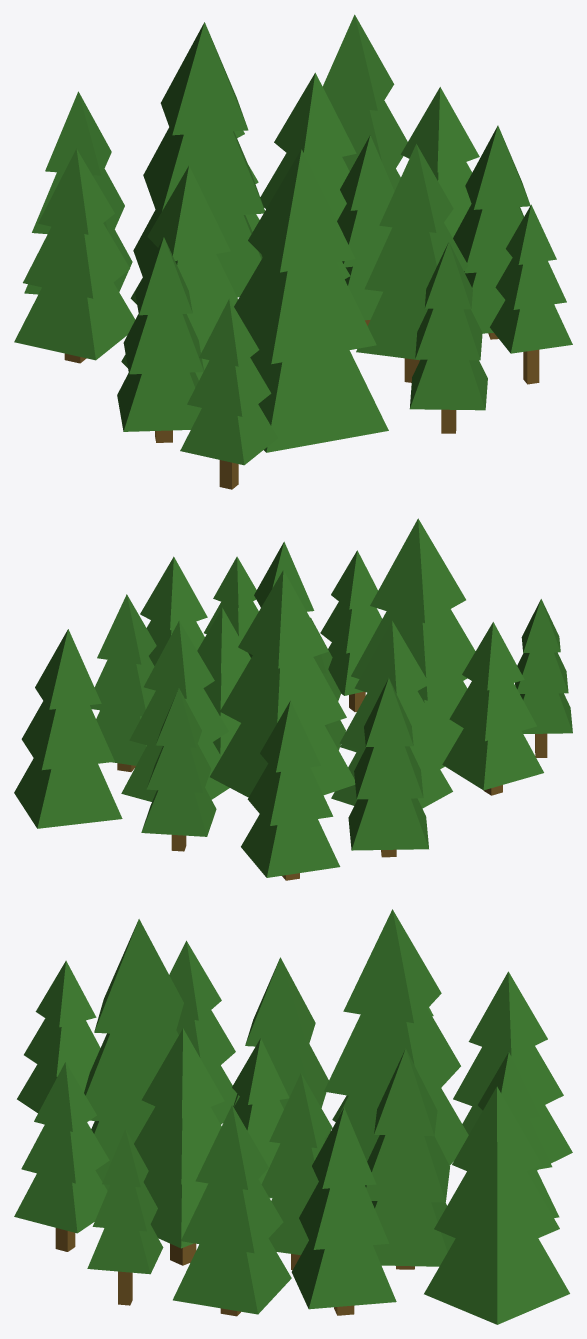
File: forest.fbx
The picture shows the model from 3 angles, top to bottom: view 1: azimuth 30°, elevation 25°; view 2: azimuth 150°, elevation 25°; view 3: azimuth 270°, elevation 25°; orthographic projection. The views are drawn at different scales.
Visible parts, largest first — view 1: Cube.020, Cube.019, Cube.021, Cube.017, Cube.040, Cube.018, Cube.041, Cube.034, Cube.008, Cube.035, Cube.015, Cube.045 (+28 smaller); view 2: Cube.017, Cube.043, Cube.021, Cube.020, Cube.018, Cube.016, Cube.044, Cube.049, Cube.034, Cube.040, Cube.050, Cube.035 (+31 smaller); view 3: Cube.043, Cube.017, Cube.044, Cube.021, Cube.018, Cube.025, Cube.020, Cube.022, Cube.026, Cube.011, Cube.008, Cube.045 (+33 smaller).
Part boxes in pixels (x1=…): Cube.020: x1=234, y1=256, x2=376, y2=364; Cube.019: x1=250, y1=350, x2=388, y2=452; Cube.021: x1=248, y1=149, x2=355, y2=272; Cube.017: x1=143, y1=127, x2=264, y2=217; Cube.040: x1=14, y1=282, x2=135, y2=360; Cube.018: x1=160, y1=22, x2=248, y2=135; Cube.041: x1=23, y1=223, x2=129, y2=298; Cube.034: x1=117, y1=372, x2=201, y2=431; Cube.008: x1=364, y1=223, x2=468, y2=296; Cube.035: x1=123, y1=314, x2=203, y2=374; Cube.015: x1=147, y1=166, x2=230, y2=260; Cube.045: x1=322, y1=14, x2=394, y2=110; Cube.017: x1=220, y1=655, x2=346, y2=737; Cube.043: x1=14, y1=758, x2=122, y2=828; Cube.021: x1=370, y1=518, x2=465, y2=623; Cube.020: x1=351, y1=609, x2=475, y2=700; Cube.018: x1=238, y1=570, x2=328, y2=668; Cube.016: x1=210, y1=723, x2=355, y2=797; Cube.044: x1=21, y1=701, x2=114, y2=770; Cube.049: x1=241, y1=814, x2=340, y2=877; Cube.034: x1=442, y1=728, x2=543, y2=790; Cube.040: x1=348, y1=798, x2=428, y2=850; Cube.050: x1=247, y1=764, x2=333, y2=825; Cube.035: x1=449, y1=681, x2=536, y2=741; Cube.043: x1=424, y1=1238, x2=569, y2=1324; Cube.017: x1=324, y1=1009, x2=460, y2=1100; Cube.044: x1=434, y1=1171, x2=559, y2=1255; Cube.021: x1=94, y1=919, x2=183, y2=1036; Cube.018: x1=343, y1=909, x2=441, y2=1023; Cube.025: x1=173, y1=1238, x2=291, y2=1314; Cube.020: x1=84, y1=1030, x2=178, y2=1123; Cube.022: x1=291, y1=1240, x2=396, y2=1309; Cube.026: x1=181, y1=1179, x2=283, y2=1253; Cube.011: x1=365, y1=1135, x2=449, y2=1202; Cube.008: x1=134, y1=1106, x2=221, y2=1184; Cube.045: x1=452, y1=1086, x2=541, y2=1183.
Bounding box in the file's own units: 176 × 112 × 187.
